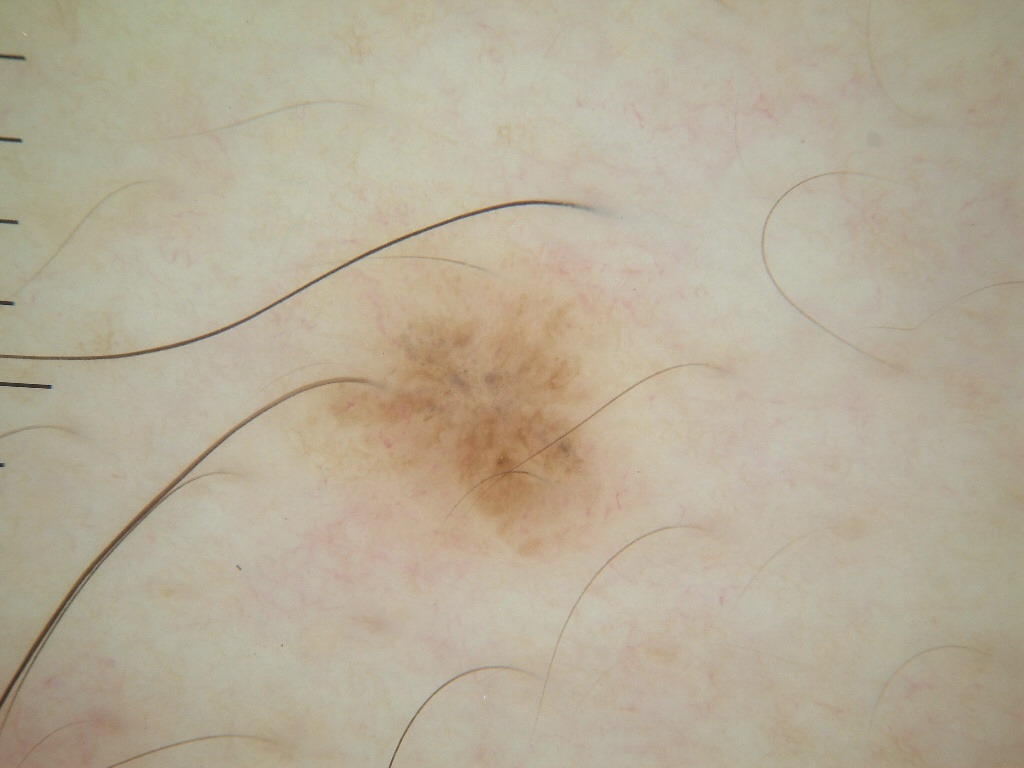Detected Lesion: (316, 265, 619, 573)
